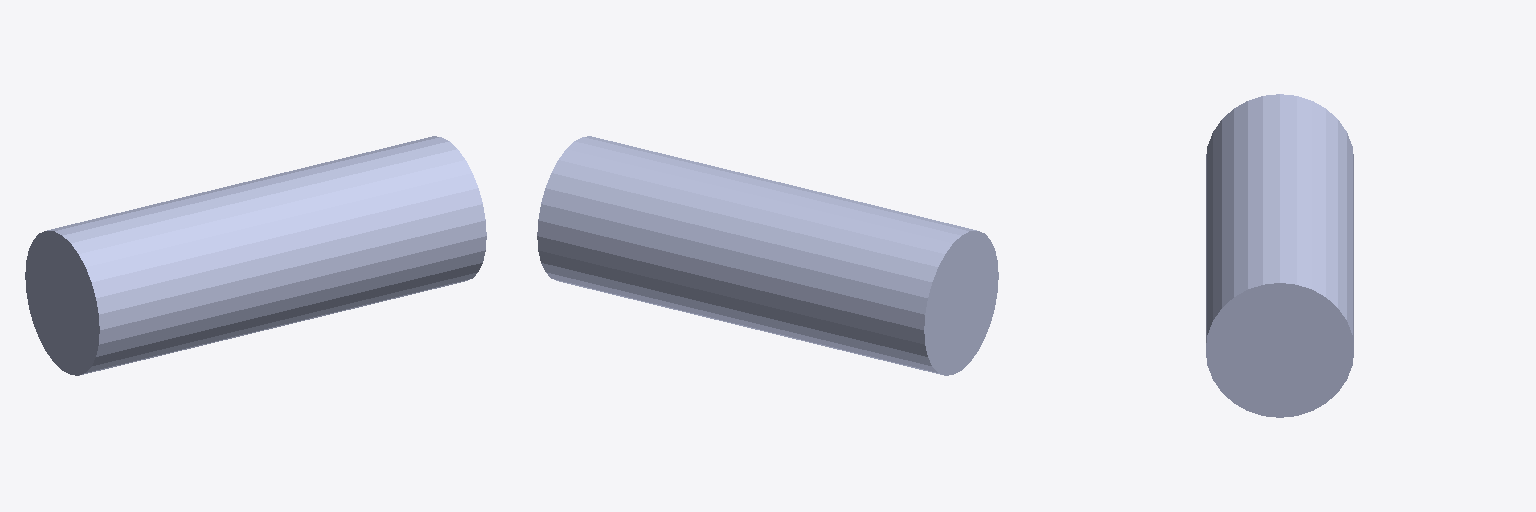
Rendered from genericHip.obj.
3 renders of one model, left to right at view 1: azimuth 30°, elevation 25°; view 2: azimuth 150°, elevation 25°; view 3: azimuth 270°, elevation 25°, orthographic.
Visible parts, largest first — view 1: stitch_result_stitch_all; view 2: stitch_result_stitch_all; view 3: stitch_result_stitch_all.
Part boxes in pixels (x1,y1,x2,y2): stitch_result_stitch_all: (25,136,486,375); stitch_result_stitch_all: (537,136,998,375); stitch_result_stitch_all: (1206,94,1353,417).
Bounding box in the file's own units: 0.24 × 0.08 × 0.08.